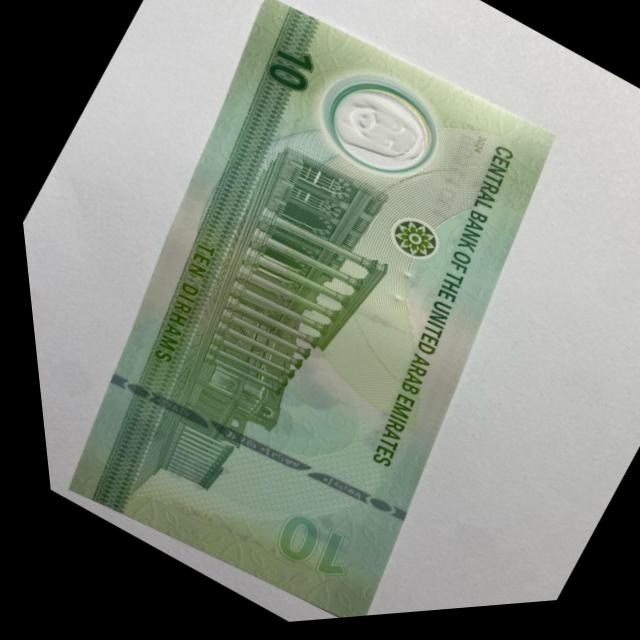10_AED: (70, 0, 554, 618)
